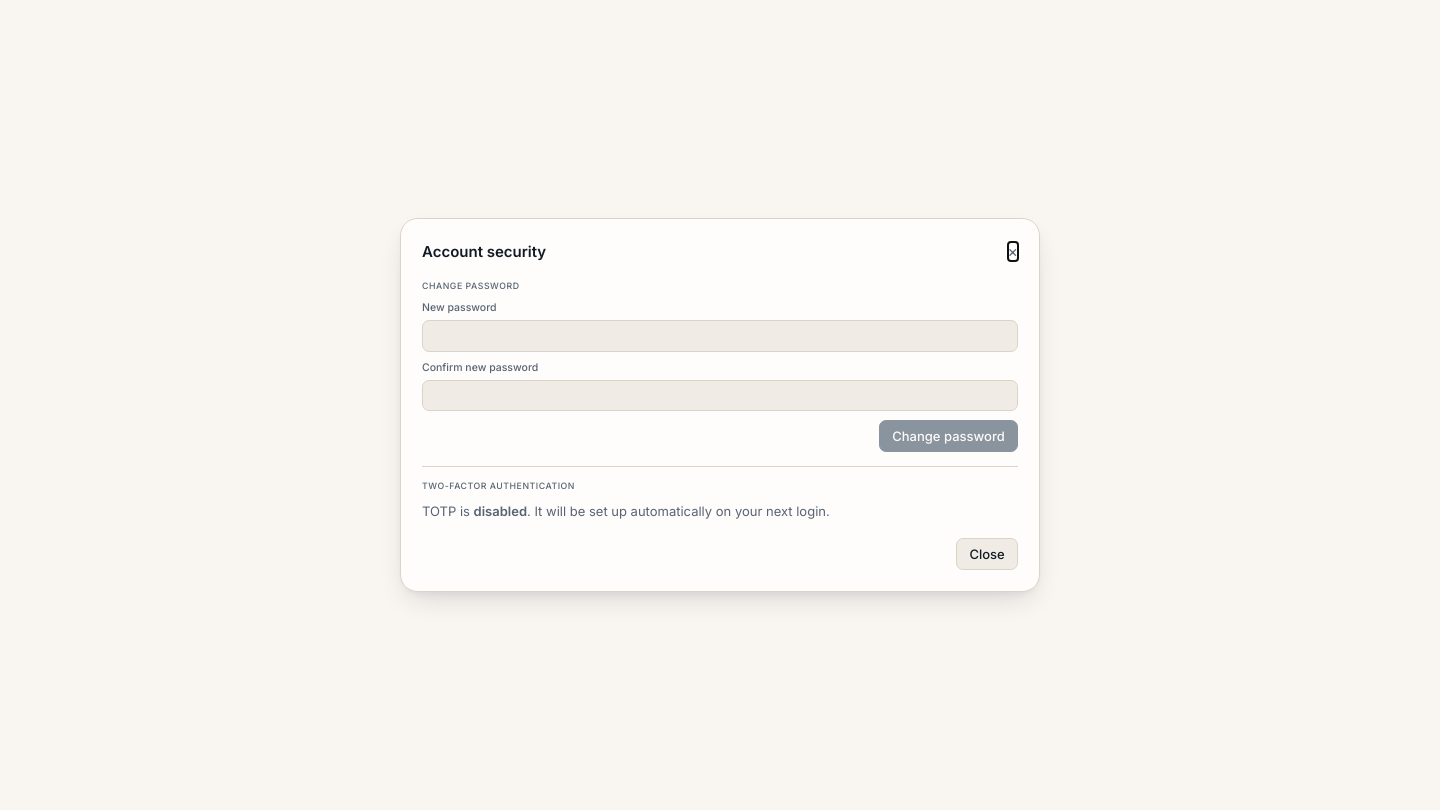
Test case: SecurityModal password validation › rejects a password that is long by .length but short by code points
The width and height of the screenshot is (1440, 810).
In the password field labelled "New password": (720, 336) [422, 320, 1018, 352], type "😀😀😀😀Aa1!"
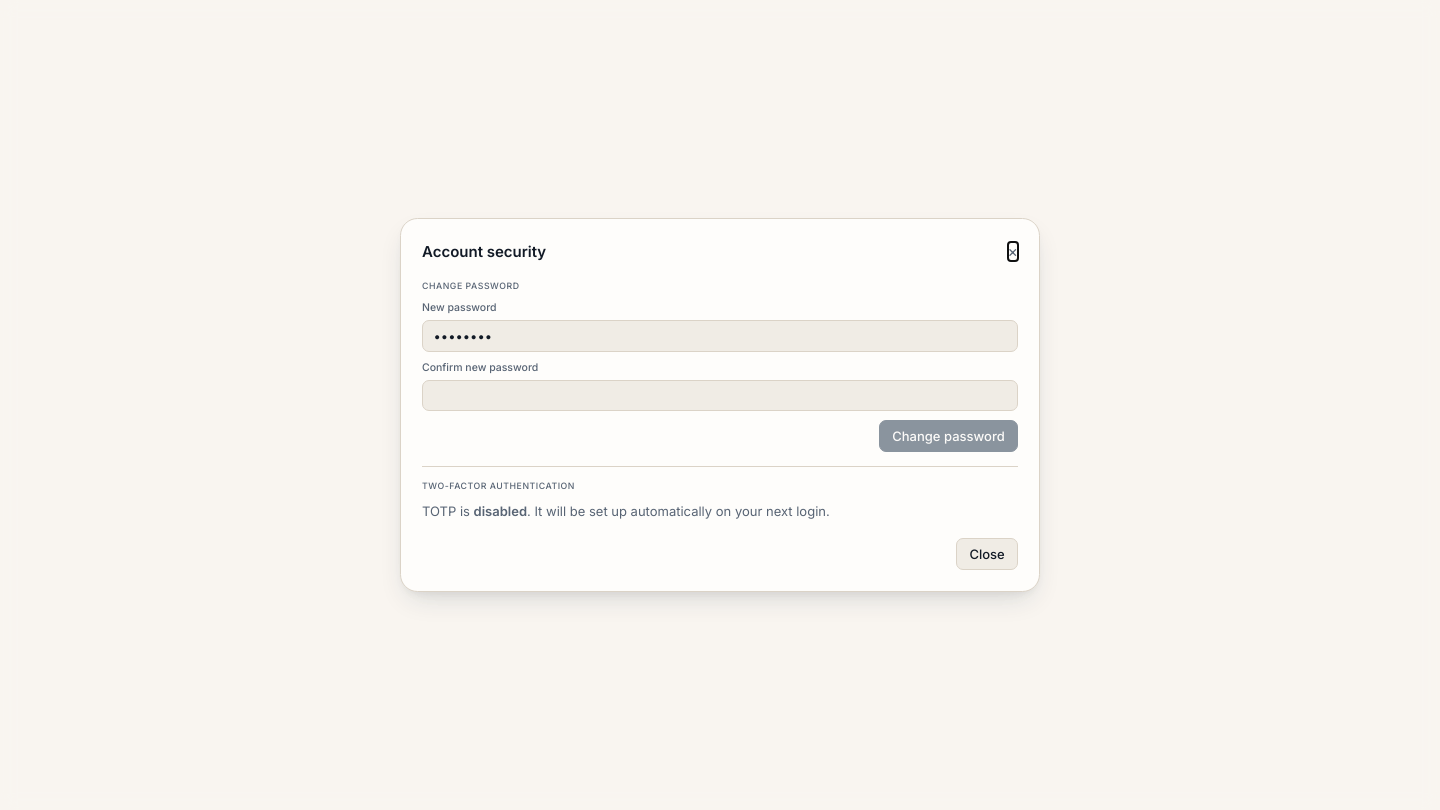
In the password field labelled "Confirm new password": (720, 396) [422, 380, 1018, 411], type "😀😀😀😀Aa1!"
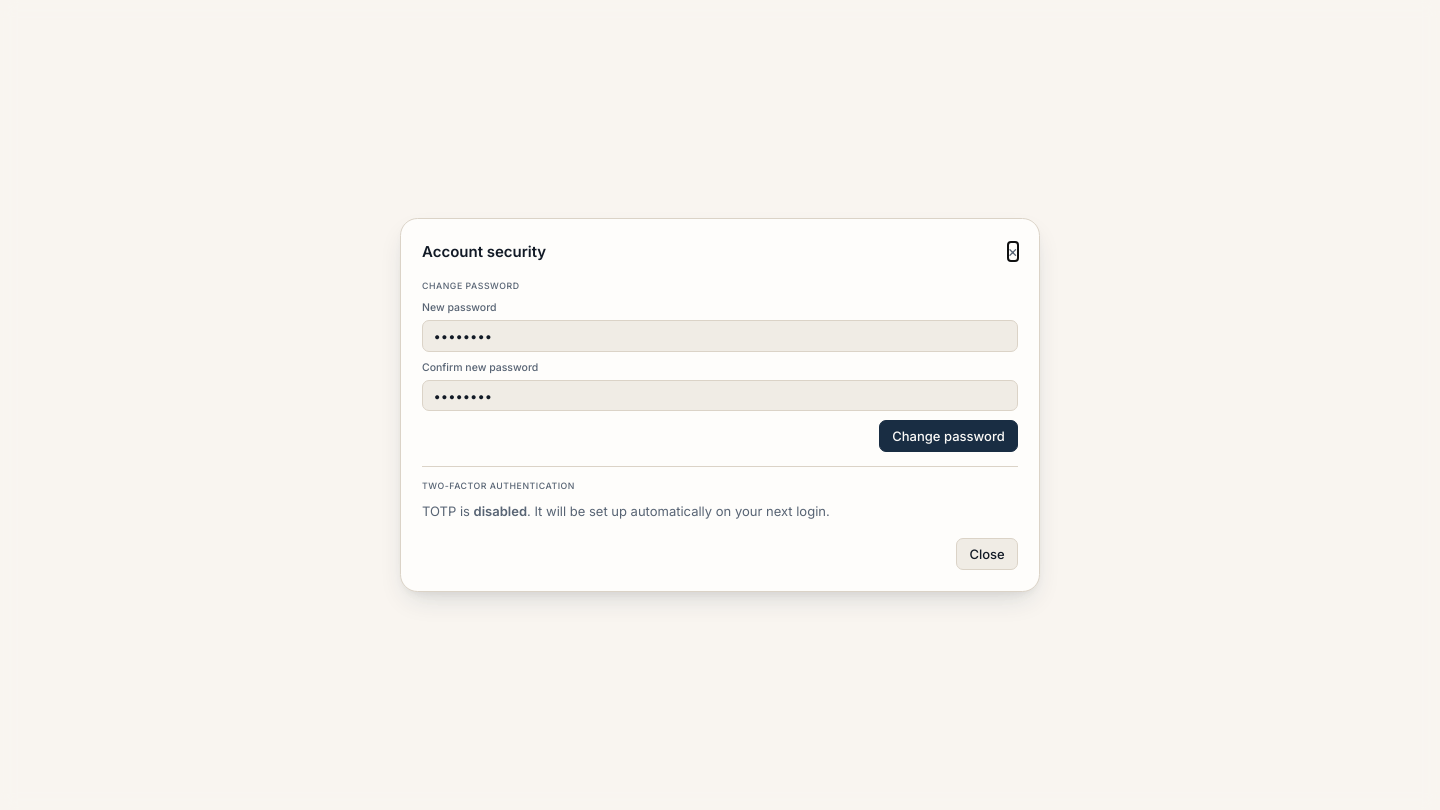
Click the button "Change password": (948, 436) [879, 420, 1018, 452]
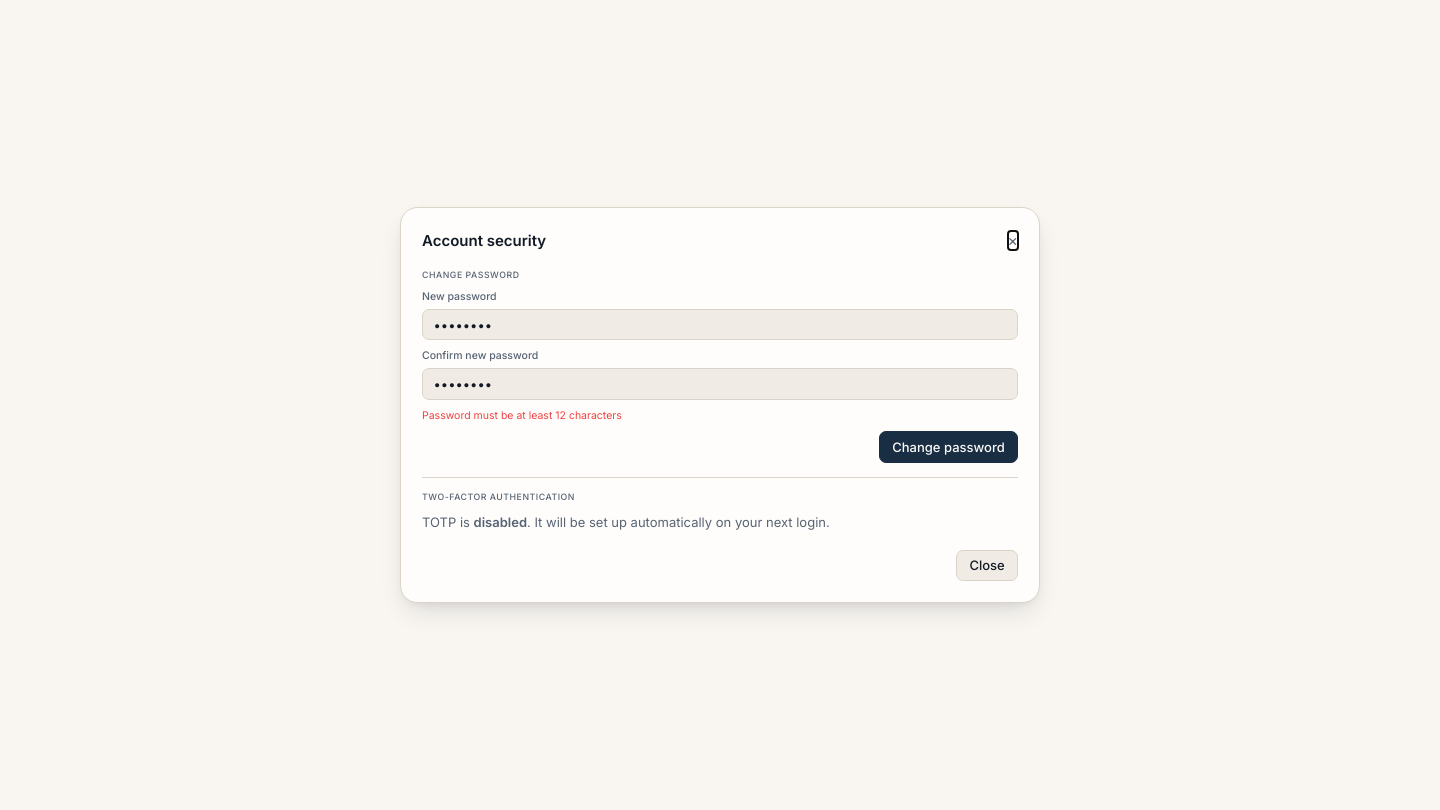
Check: the text "Password must be at least 12 characters" is shown, box [422, 409, 622, 422]
